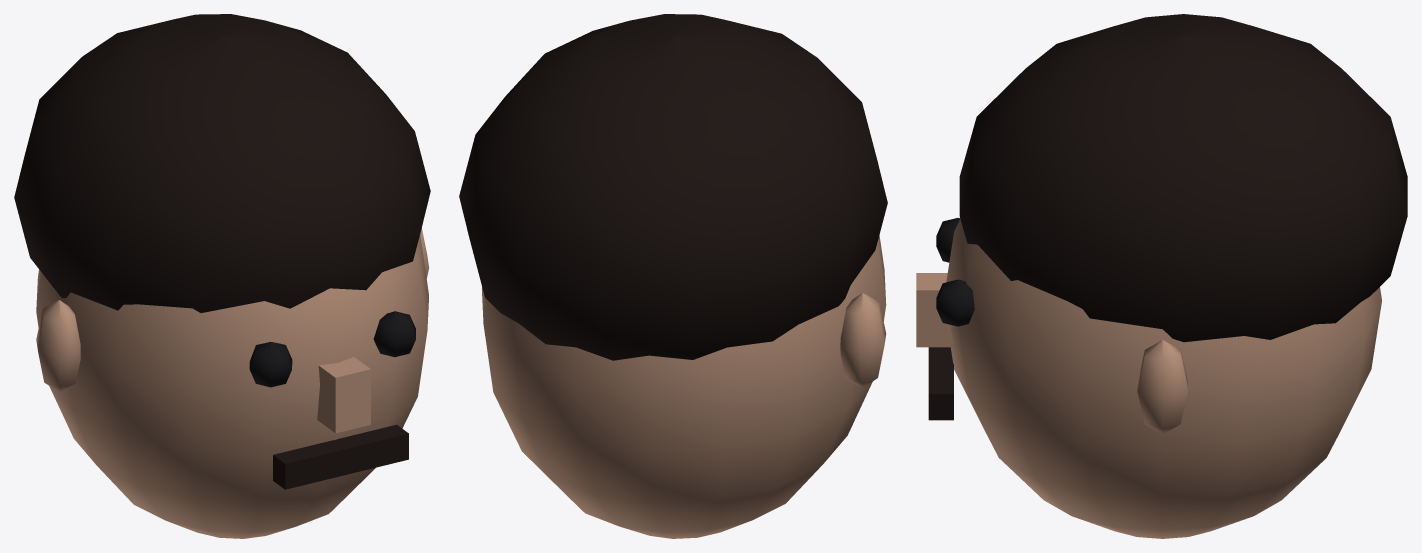
The model's file is head.obj.
The picture shows the model from 3 angles, left to right: view 1: azimuth 30°, elevation 25°; view 2: azimuth 150°, elevation 25°; view 3: azimuth 270°, elevation 25°; orthographic projection. The views are drawn at different scales.
Parts seen in each view (by area): view 1: head; view 2: head; view 3: head.
Part boxes in pixels (x1,y1,x2,y2): head: [14, 14, 430, 538]; head: [459, 14, 887, 538]; head: [916, 14, 1407, 538].
Size of the model in its own units: 0.2238 by 0.2624 by 0.2393.
